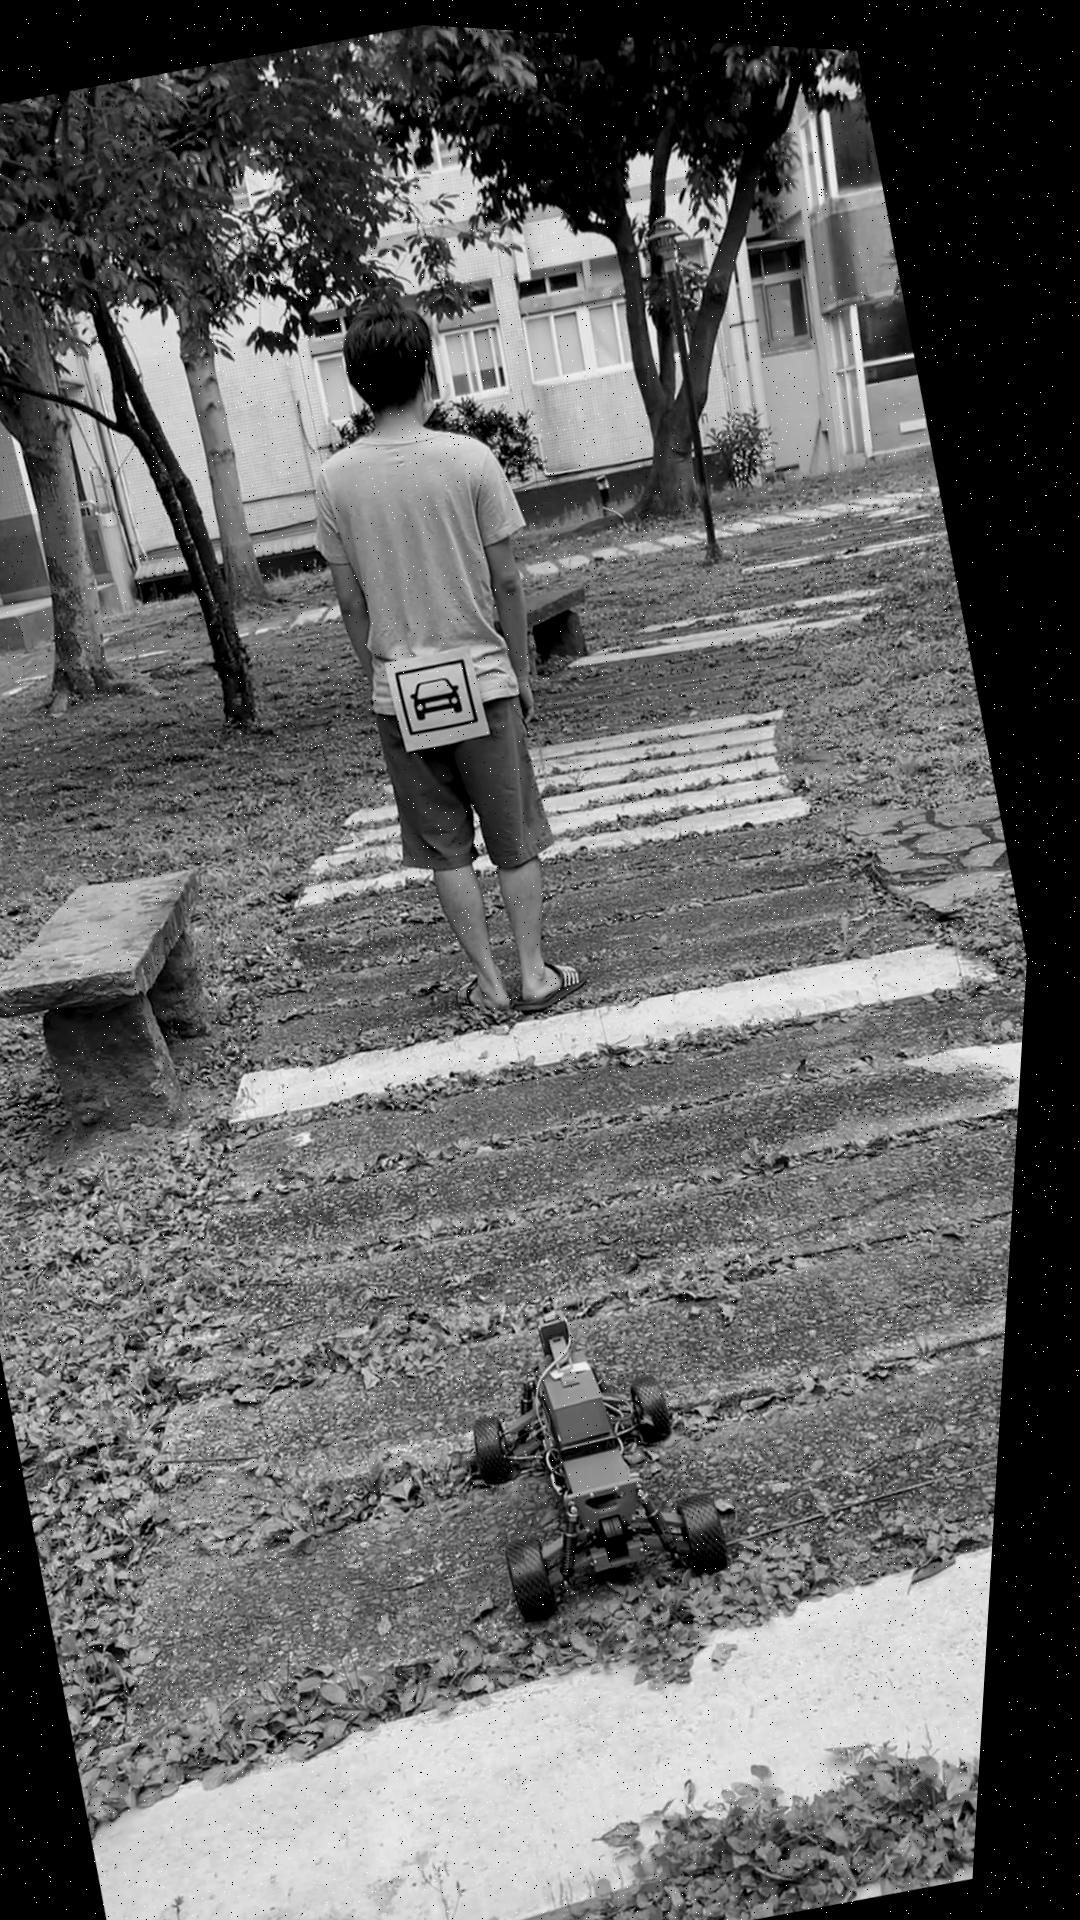car_img: (400, 649, 492, 736)
